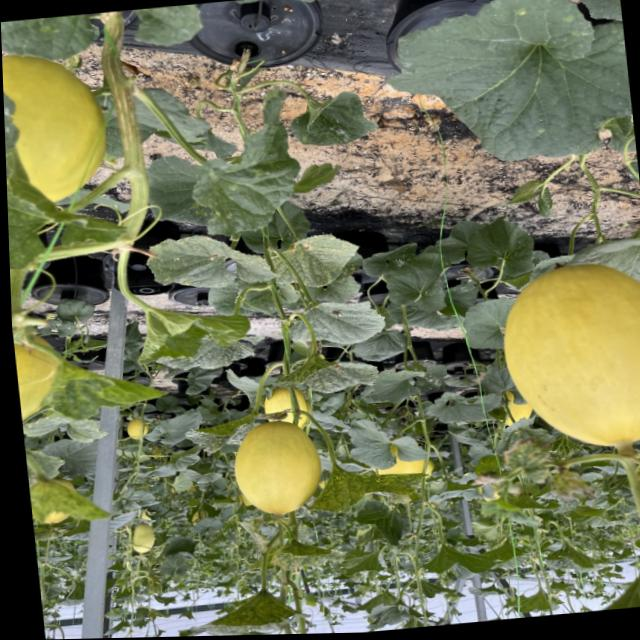CMV: (139, 223, 282, 299), (260, 218, 373, 293), (289, 291, 393, 350)
SLCV: (239, 330, 368, 405), (311, 461, 430, 518), (189, 586, 301, 636), (153, 326, 265, 374), (184, 400, 263, 451), (270, 539, 347, 571), (234, 514, 274, 552)
downy mildew: (399, 0, 637, 173), (174, 126, 314, 226)
healthy: (461, 215, 544, 281), (344, 414, 431, 469), (450, 294, 518, 355), (385, 252, 453, 312), (418, 540, 500, 577), (431, 390, 498, 423)
powdery mildew: (279, 82, 391, 149), (368, 358, 453, 406)
